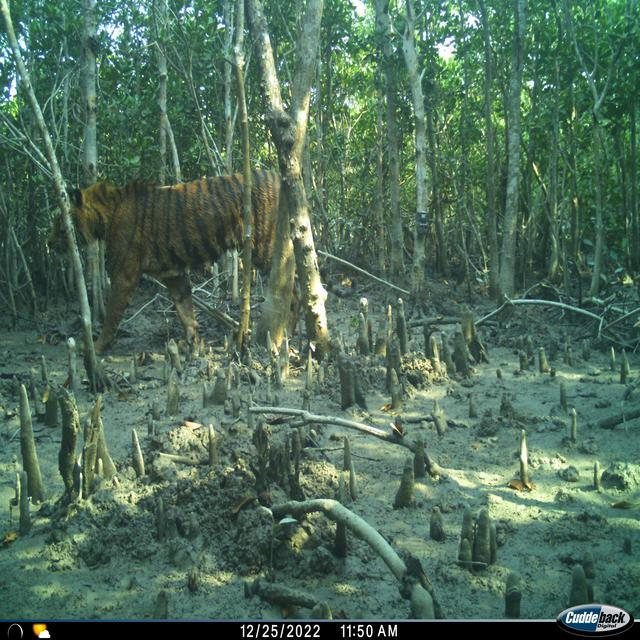tiger: (46, 166, 300, 360)
